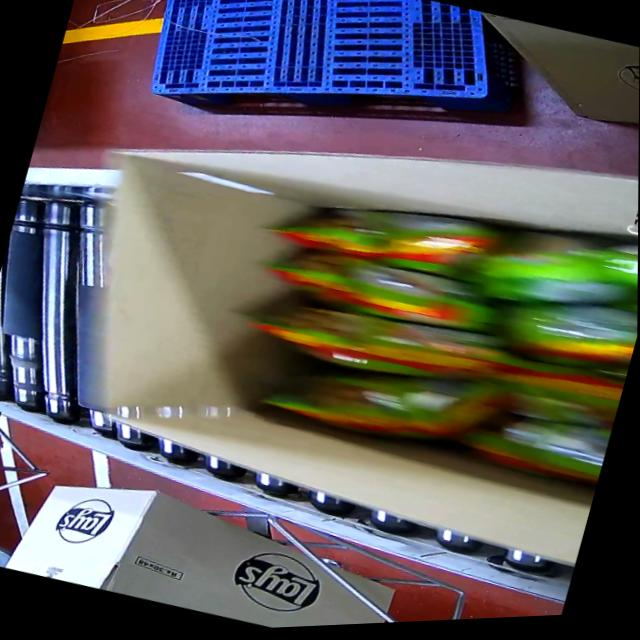YOGURT_HERB: (216, 151, 639, 515)
